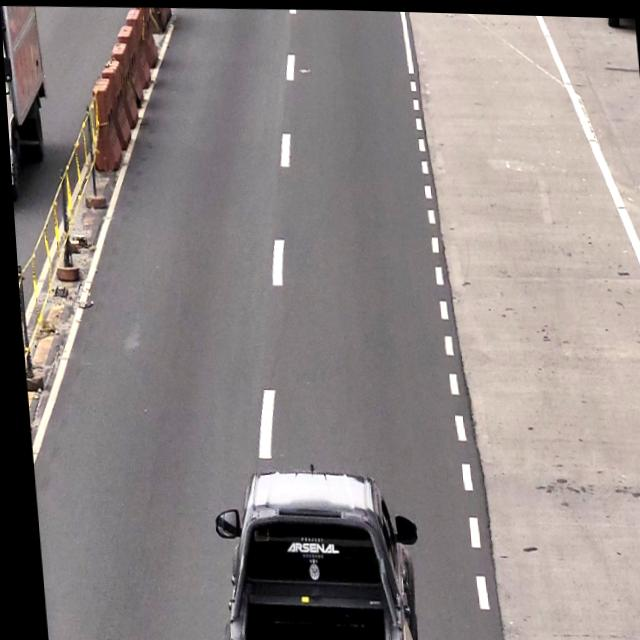Car: (211, 463, 405, 640)
